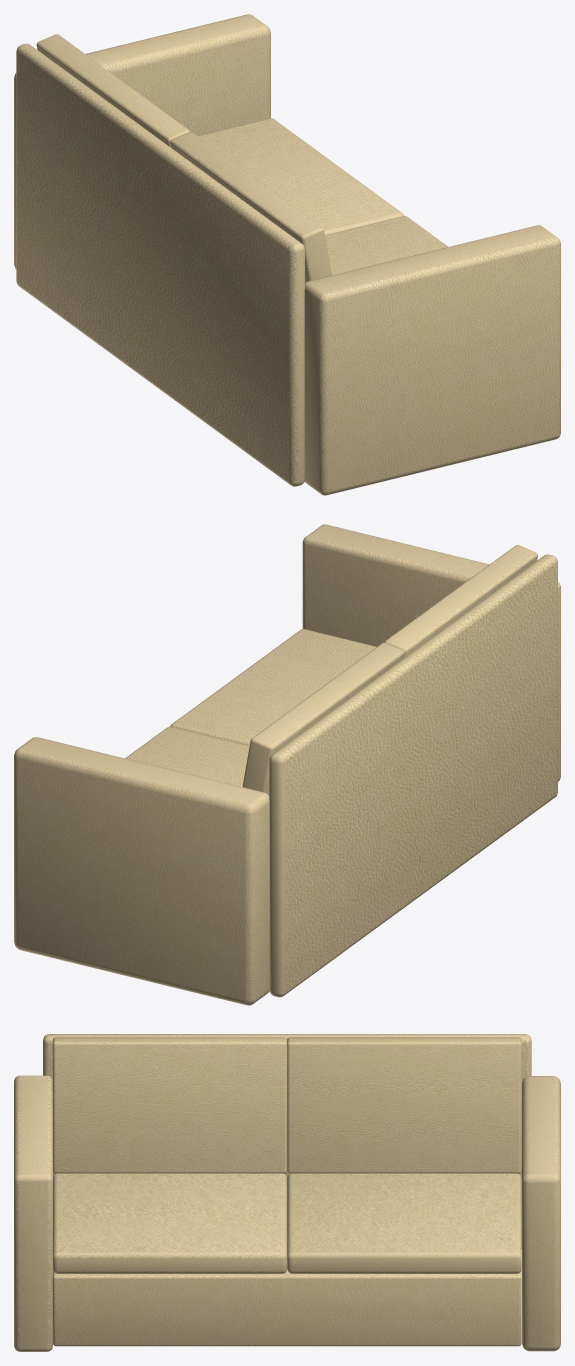
File: PatientSofa.fbx
The picture shows the model from 3 angles, top to bottom: view 1: azimuth 30°, elevation 25°; view 2: azimuth 150°, elevation 25°; view 3: azimuth 270°, elevation 25°; orthographic projection. The views are drawn at different scales.
Visible parts, largest first — view 1: Achterstuk, Leuning_R, Leuning_L, Zitvlak_L, Zitvlak_R_1, Zitvlak_L_1, Zitvlak_R; view 2: Achterstuk, Leuning_L, Leuning_R, Zitvlak_R, Zitvlak_L_1, Zitvlak_L, Zitvlak_R_1; view 3: Onderstuk, Zitvlak_R_1, Zitvlak_L_1, Zitvlak_L, Zitvlak_R, Leuning_R, Leuning_L, Achterstuk.
Part boxes in pixels (x1,y1,x2,y2): Achterstuk: [16, 43, 304, 486]; Leuning_R: [304, 225, 560, 495]; Leuning_L: [14, 14, 270, 269]; Zitvlak_L: [197, 118, 404, 235]; Zitvlak_R_1: [170, 132, 331, 282]; Zitvlak_L_1: [36, 34, 190, 147]; Zitvlak_R: [325, 216, 447, 275]; Achterstuk: [269, 554, 557, 997]; Leuning_L: [14, 737, 269, 1005]; Leuning_R: [302, 524, 560, 781]; Zitvlak_R: [170, 629, 376, 745]; Zitvlak_L_1: [242, 642, 404, 795]; Zitvlak_L: [125, 726, 249, 786]; Zitvlak_R_1: [384, 545, 537, 657]; Onderstuk: [52, 1269, 521, 1346]; Zitvlak_R_1: [52, 1037, 287, 1173]; Zitvlak_L_1: [287, 1037, 521, 1173]; Zitvlak_L: [287, 1173, 521, 1273]; Zitvlak_R: [53, 1173, 287, 1273]; Leuning_R: [14, 1075, 52, 1351]; Leuning_L: [522, 1076, 560, 1351]; Achterstuk: [43, 1034, 531, 1248].
Bounding box in the file's own units: 132 × 123 × 280.
1 material, 1 textured.
